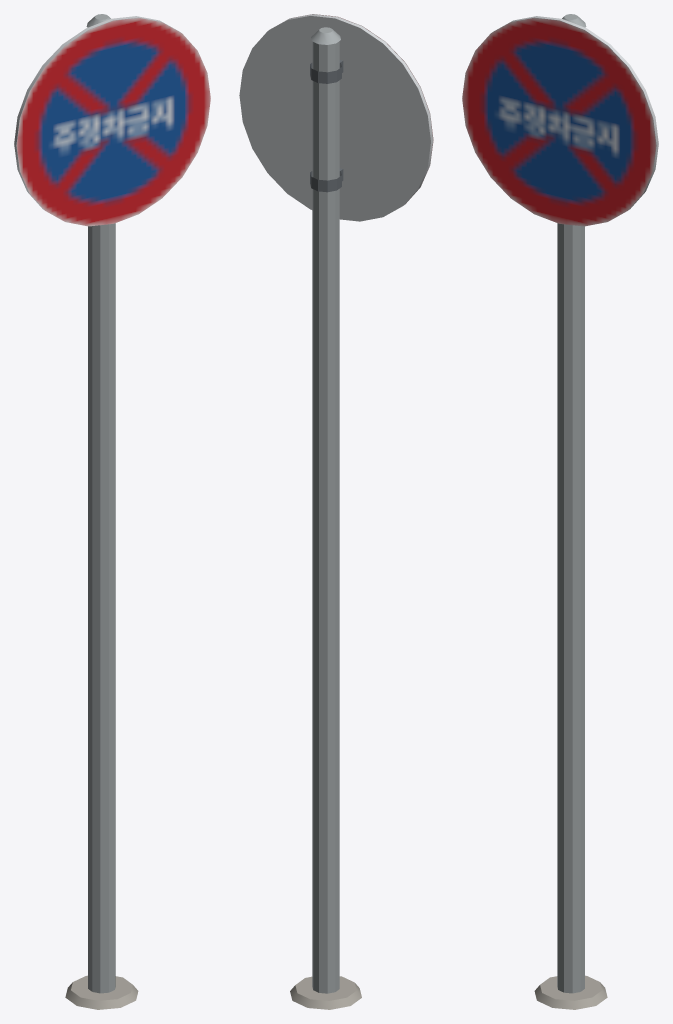
Rendered from SC_Str_Sign_NoStopping.gltf.
The picture shows the model from 3 angles, left to right: view 1: azimuth 30°, elevation 25°; view 2: azimuth 150°, elevation 25°; view 3: azimuth 330°, elevation 25°; orthographic projection.
Visible parts, largest first — view 1: SC_Str_Sign_NoStopping; view 2: SC_Str_Sign_NoStopping; view 3: SC_Str_Sign_NoStopping.
Boxes of the visible parts, x1,y1,x2,y2 form: SC_Str_Sign_NoStopping: (14,14,210,1009); SC_Str_Sign_NoStopping: (239,14,433,1009); SC_Str_Sign_NoStopping: (462,14,658,1009).
Size of the model in its own units: 0.6 by 2.9 by 0.2.
Materials: 2 (2 with a texture image).
